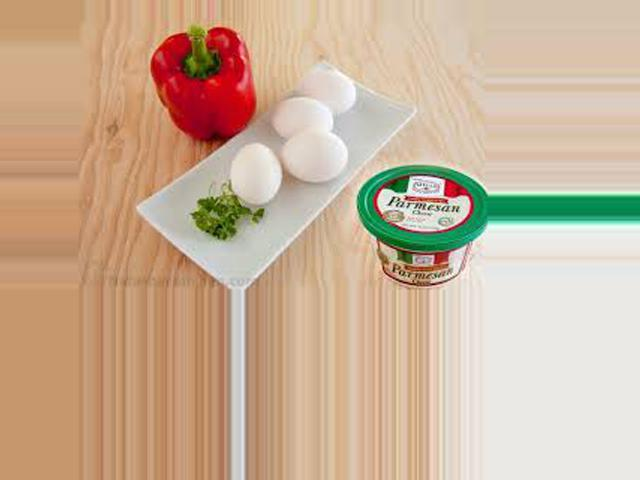bell_pepper: (141, 27, 273, 138)
